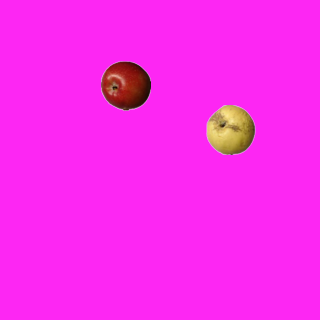Apple Braeburn: (100, 60, 150, 110)
Apple Golden 1: (205, 104, 255, 154)
